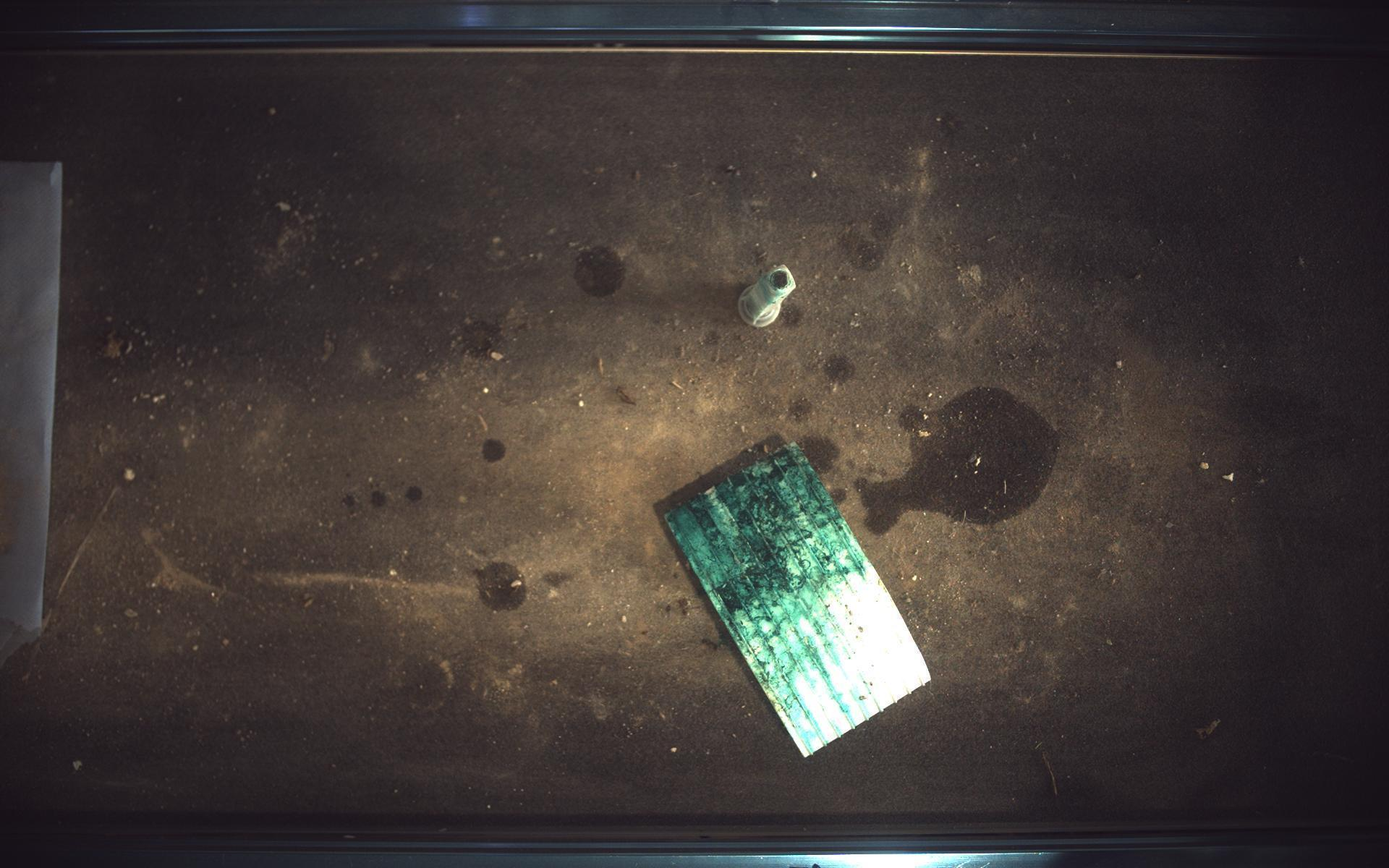plastic: (666, 444, 932, 758), (739, 265, 797, 327)
